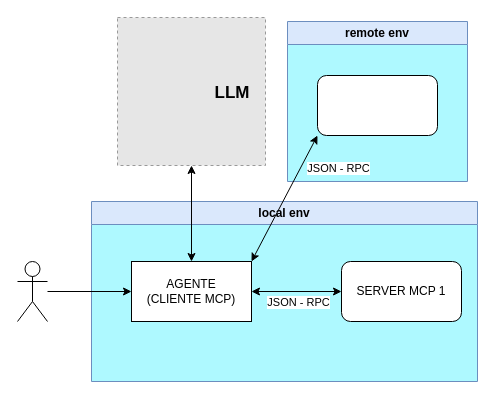
The diagram is 495 pixels wide and 399 high, and some of its shapes have lost their labels. Grey dashed boxes stand in for pictures. The shapes that lost their labels are listed below. From the top down, each one's centre as x and y in pixels, then its label:
[377,105]: SERVER MCP 2
[32,291]: Actor
